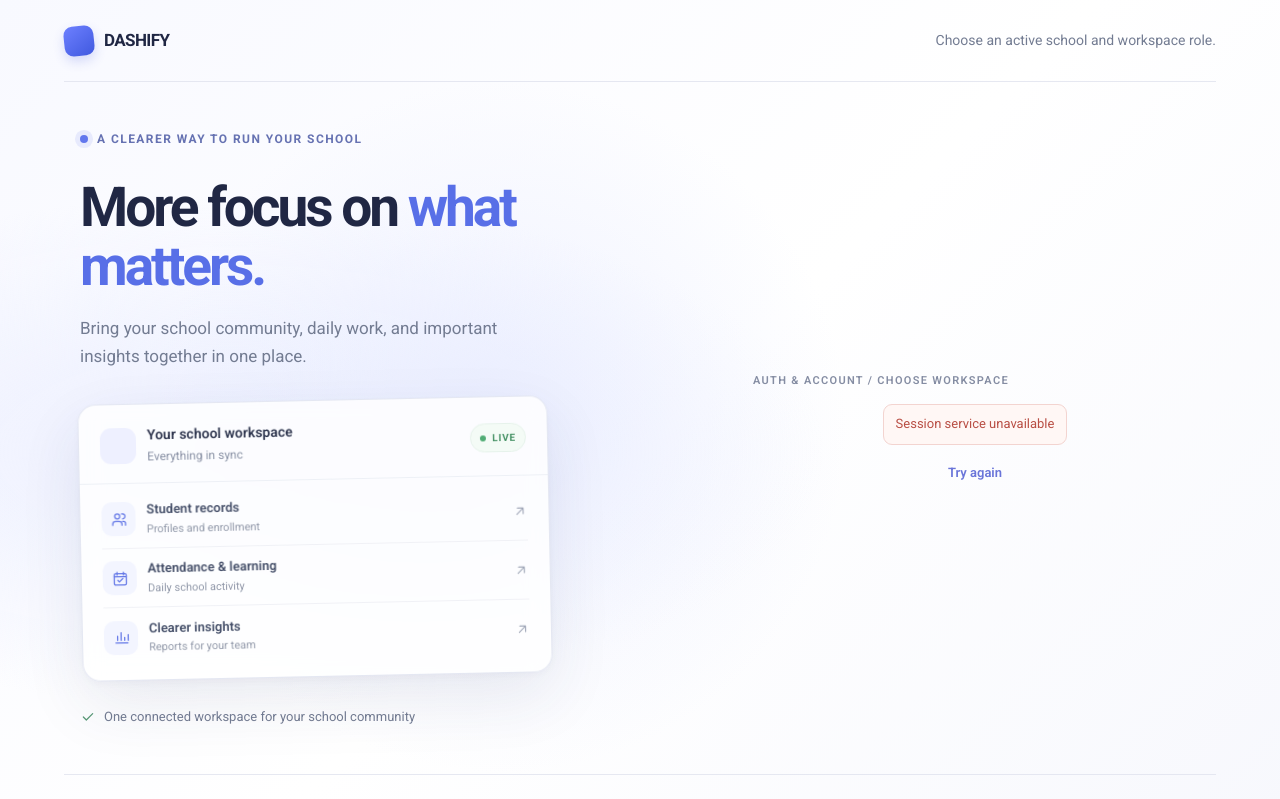
Test: auth session and workspace UI › surfaces session restore failures and supports retry
Expected: the message reads "Session service unavailable", [896, 416, 1054, 431]
Click the button "Try again".
click(975, 472)  # box [942, 462, 1008, 483]
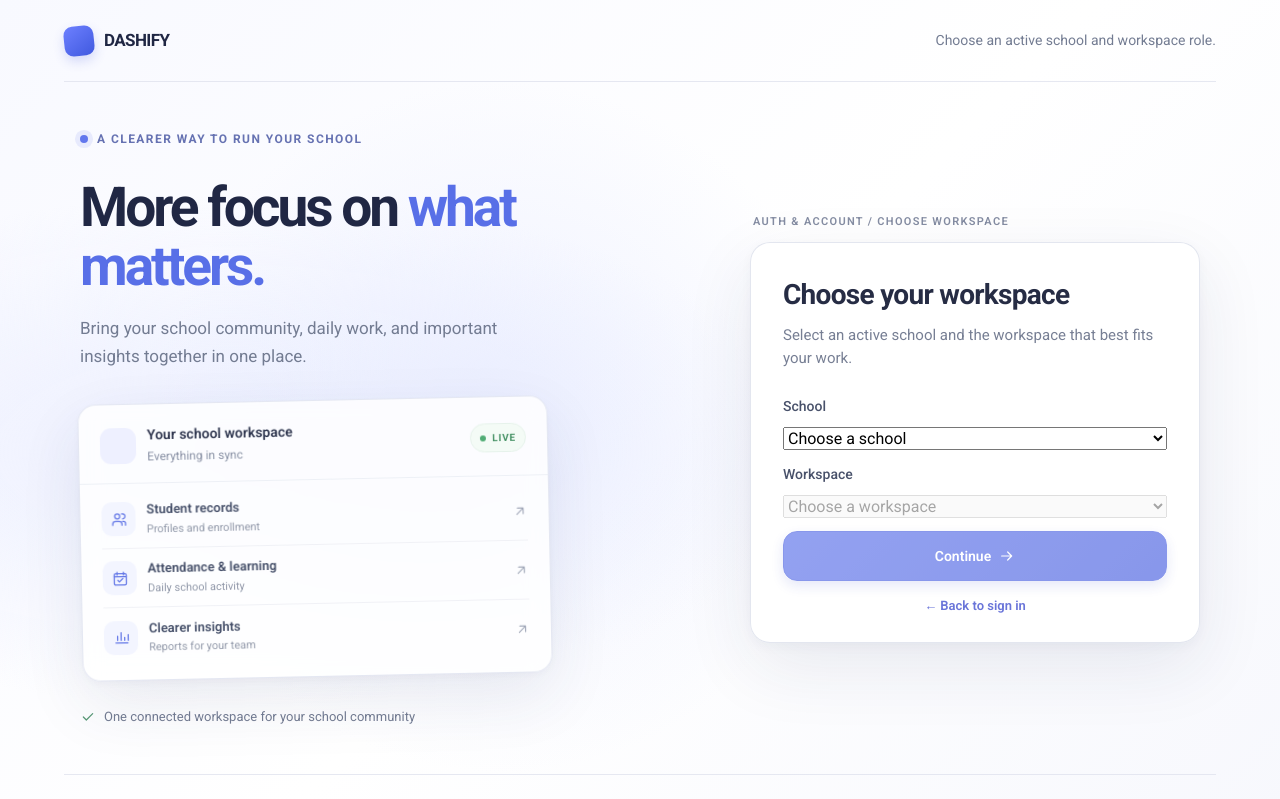
Expected: the heading "Choose your workspace" is shown, [783, 278, 1069, 311]
